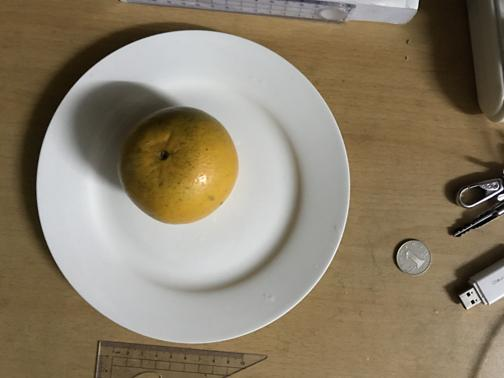coin: (393, 238, 432, 276)
orange: (120, 103, 238, 226)
